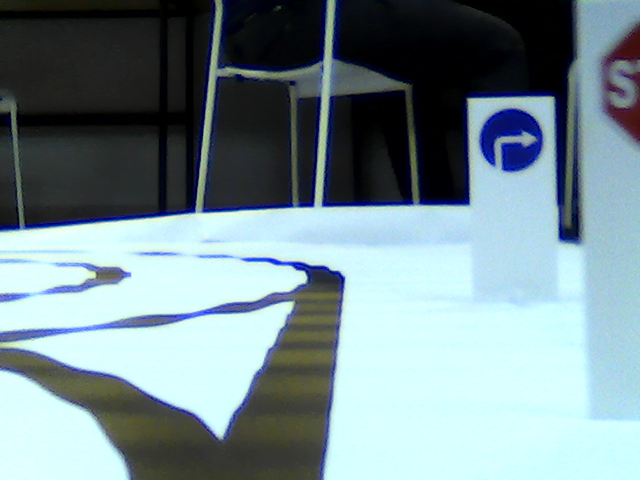Right: (478, 104, 544, 169)
